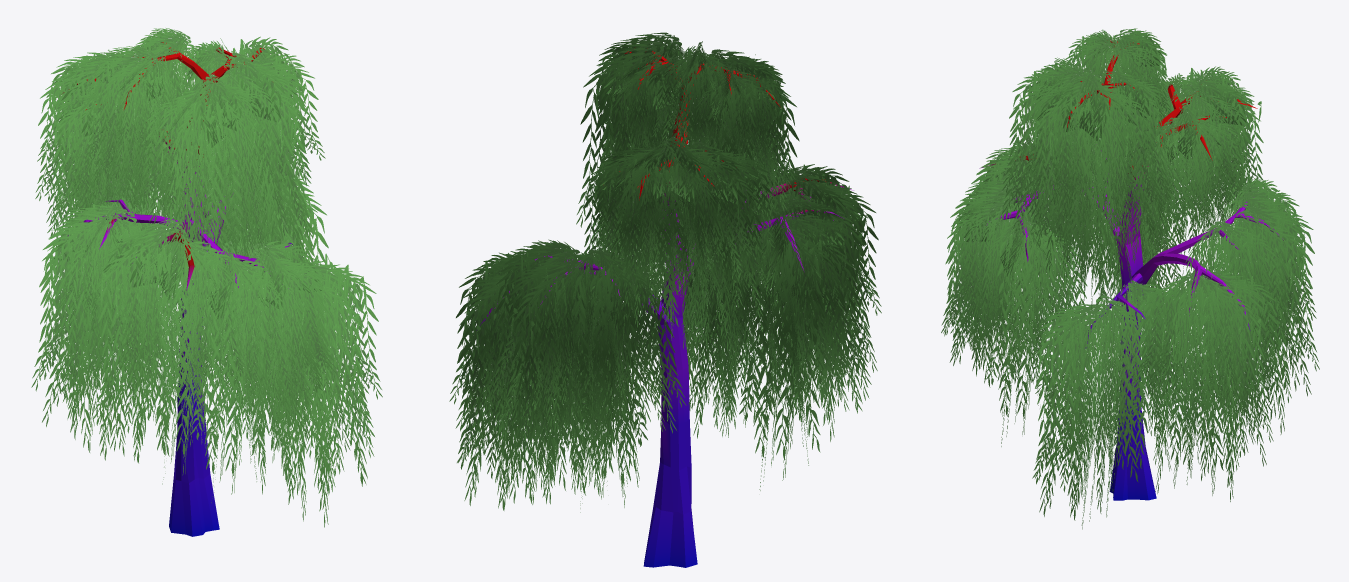
Rendered from PT_Weeping_Willow_Tree_01_green.fbx.
The picture shows the model from 3 angles, left to right: view 1: azimuth 30°, elevation 25°; view 2: azimuth 150°, elevation 25°; view 3: azimuth 270°, elevation 25°; orthographic projection. The views are drawn at different scales.
Parts seen in each view (by area): view 1: PT_Weeping_Willow_Tree_01_green_LOD0; view 2: PT_Weeping_Willow_Tree_01_green_LOD0; view 3: PT_Weeping_Willow_Tree_01_green_LOD0.
Boxes of the visible parts, x1=… form: PT_Weeping_Willow_Tree_01_green_LOD0: x1=31, y1=28, x2=382, y2=536; PT_Weeping_Willow_Tree_01_green_LOD0: x1=449, y1=32, x2=881, y2=567; PT_Weeping_Willow_Tree_01_green_LOD0: x1=941, y1=28, x2=1319, y2=529.
Size of what is drawn, in the model's own units: 509 by 701 by 556.
